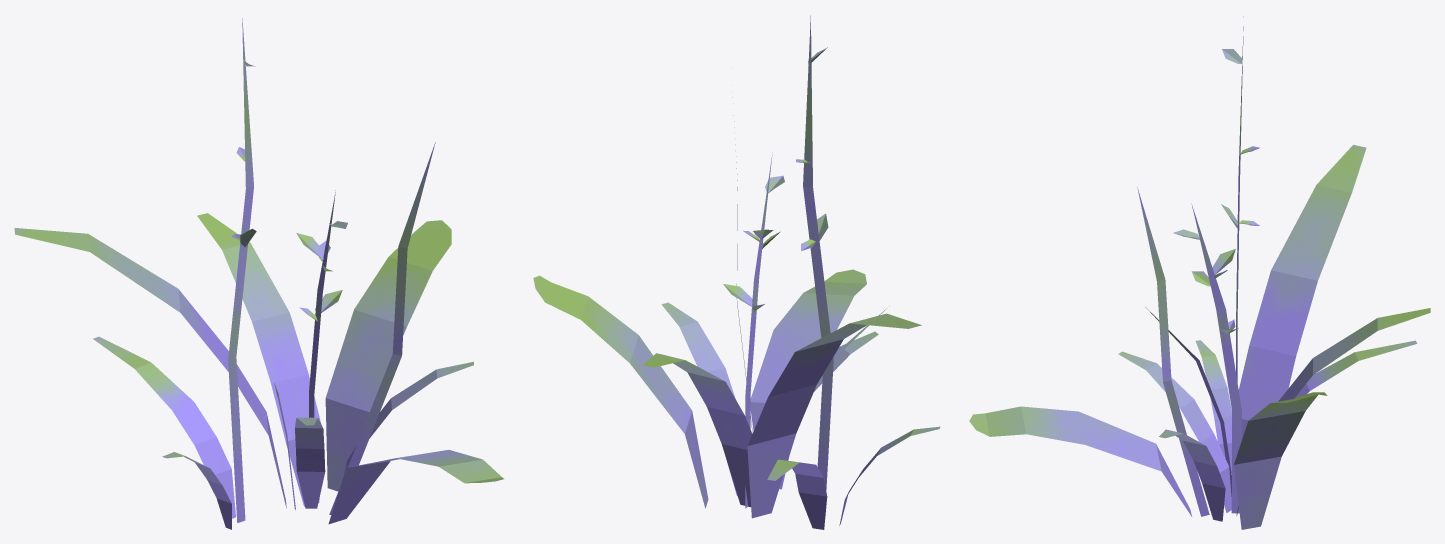
Rendered from grass1.fbx.
3 views of the same model, side by side, from view 1: azimuth 30°, elevation 25°; view 2: azimuth 150°, elevation 25°; view 3: azimuth 270°, elevation 25° (orthographic). The views are drawn at different scales.
Visible parts, largest first — view 1: Cube.054.frozen; view 2: Cube.054.frozen; view 3: Cube.054.frozen.
Boxes of the visible parts, x1,y1,x2,y2 form: Cube.054.frozen: [14, 18, 503, 529]; Cube.054.frozen: [533, 15, 940, 529]; Cube.054.frozen: [969, 16, 1430, 529].
Size of the model in its own units: 194 by 230 by 205.
1 material, 1 textured.
